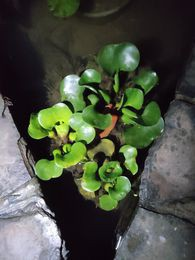water_hyacinth: (27, 43, 165, 214)
